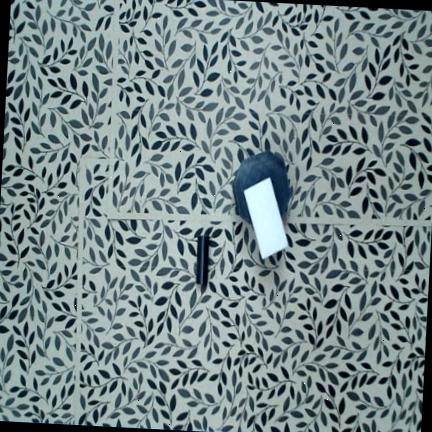Cilindro: (197, 236, 210, 285)
Paralelepipedo: (244, 176, 289, 259)
Prisma_hexagonal: (232, 151, 291, 229)
